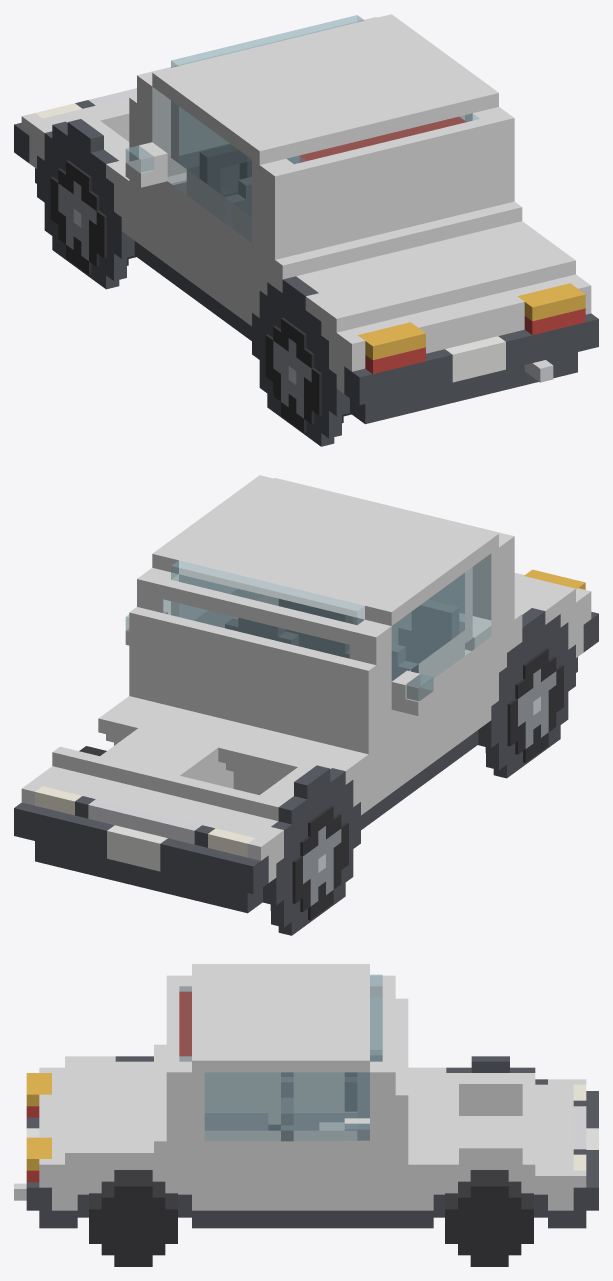
Rendered from coche.glb.
3 views of the same model, one above another, from view 1: azimuth 30°, elevation 25°; view 2: azimuth 150°, elevation 25°; view 3: azimuth 270°, elevation 25° (orthographic). The views are drawn at different scales.
Visible parts, largest first — view 1: coche, rueda_tra_i, rueda_del_i; view 2: coche, rueda_tra_i, rueda_del_i; view 3: coche, rueda_tra_d, rueda_del_d.
Boxes of the visible parts, x1,y1,x2,y2 form: coche: (14, 14, 598, 446); rueda_tra_i: (265, 317, 351, 432); rueda_del_i: (50, 160, 135, 274); coche: (14, 475, 598, 935); rueda_tra_i: (478, 648, 563, 762); rueda_del_i: (263, 805, 348, 920); coche: (14, 964, 598, 1228); rueda_tra_d: (89, 1170, 177, 1266); rueda_del_d: (445, 1170, 533, 1266).
Bounding box in the file's own units: 2.2 × 1.8 × 4.6.
